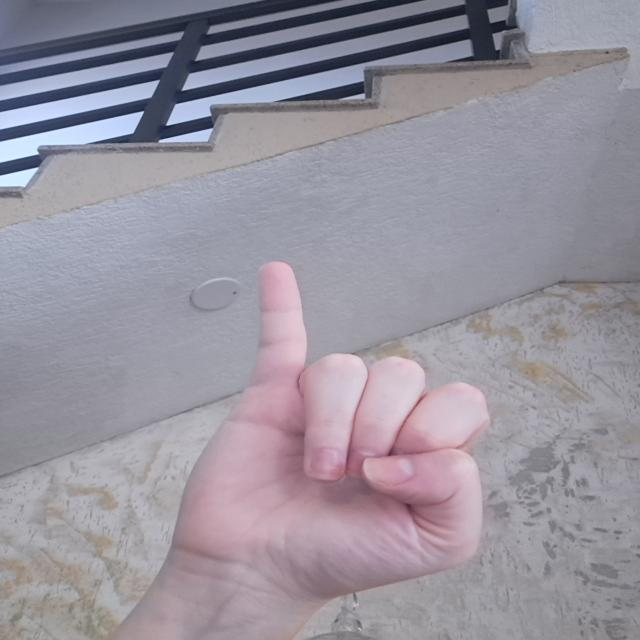I: (160, 251, 504, 598)
